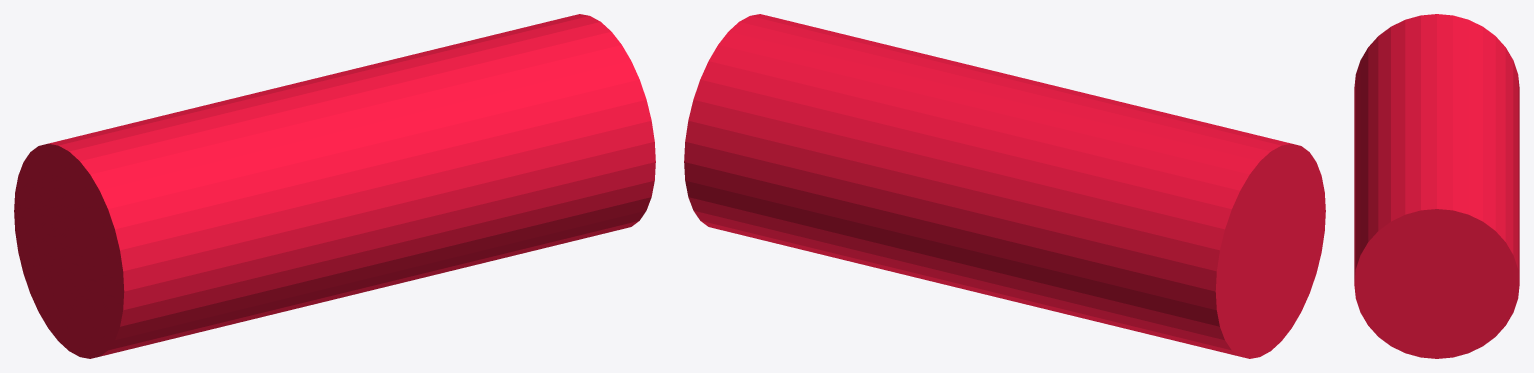
Rendered from LeverHandle1.1.obj.
The picture shows the model from 3 angles, left to right: view 1: azimuth 30°, elevation 25°; view 2: azimuth 150°, elevation 25°; view 3: azimuth 270°, elevation 25°; orthographic projection. The views are drawn at different scales.
Visible parts, largest first — view 1: LeverHandle_Cylinder.002; view 2: LeverHandle_Cylinder.002; view 3: LeverHandle_Cylinder.002.
Part boxes in pixels (x1,y1,x2,y2): LeverHandle_Cylinder.002: (14,14,655,358); LeverHandle_Cylinder.002: (684,14,1325,358); LeverHandle_Cylinder.002: (1354,14,1519,358).
Bounding box in the file's own units: 1.02 × 0.3651 × 0.3651.
